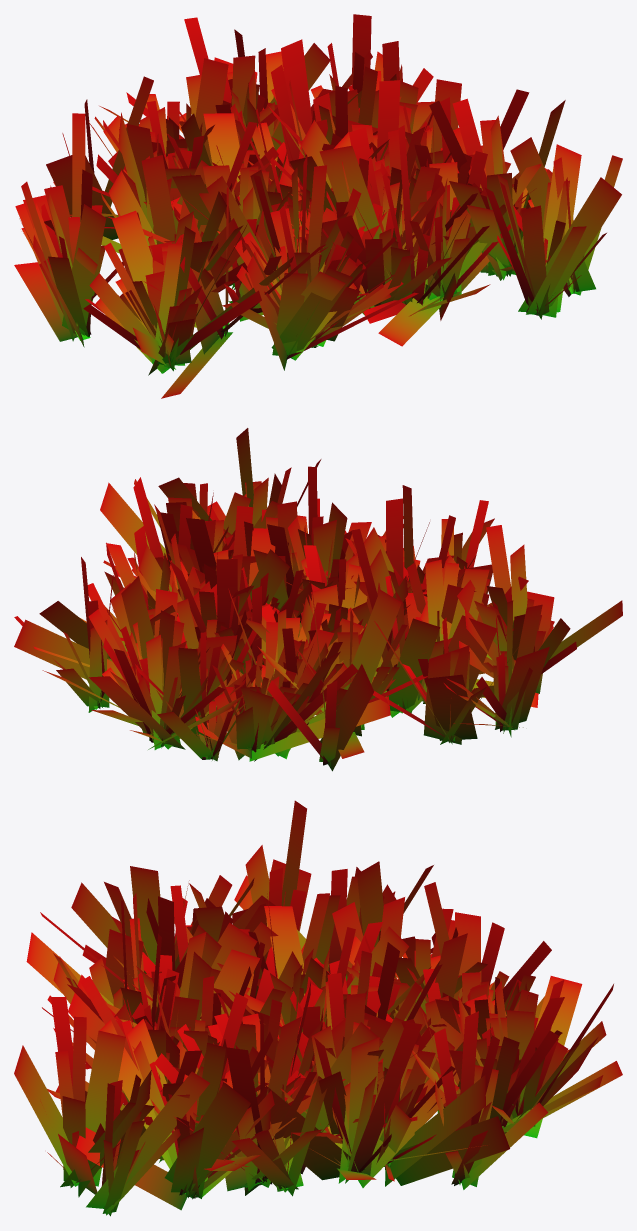
Rendered from Grass_03_Var1_LOD2.FBX.
3 views of the same model, one above another, from view 1: azimuth 30°, elevation 25°; view 2: azimuth 150°, elevation 25°; view 3: azimuth 270°, elevation 25° (orthographic). The views are drawn at different scales.
Parts seen in each view (by area): view 1: Grass_03_Var1_LOD2; view 2: Grass_03_Var1_LOD2; view 3: Grass_03_Var1_LOD2.
Part boxes in pixels (left/top/right/bottom): Grass_03_Var1_LOD2: left=14, top=14, right=622, bottom=398; Grass_03_Var1_LOD2: left=14, top=428, right=622, bottom=771; Grass_03_Var1_LOD2: left=14, top=800, right=622, bottom=1216.
Size of what is drawn, in the model's own units: 69.16 by 64.9 by 26.33.
